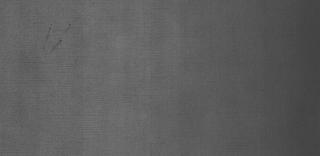water spot: (35, 22, 77, 56)
